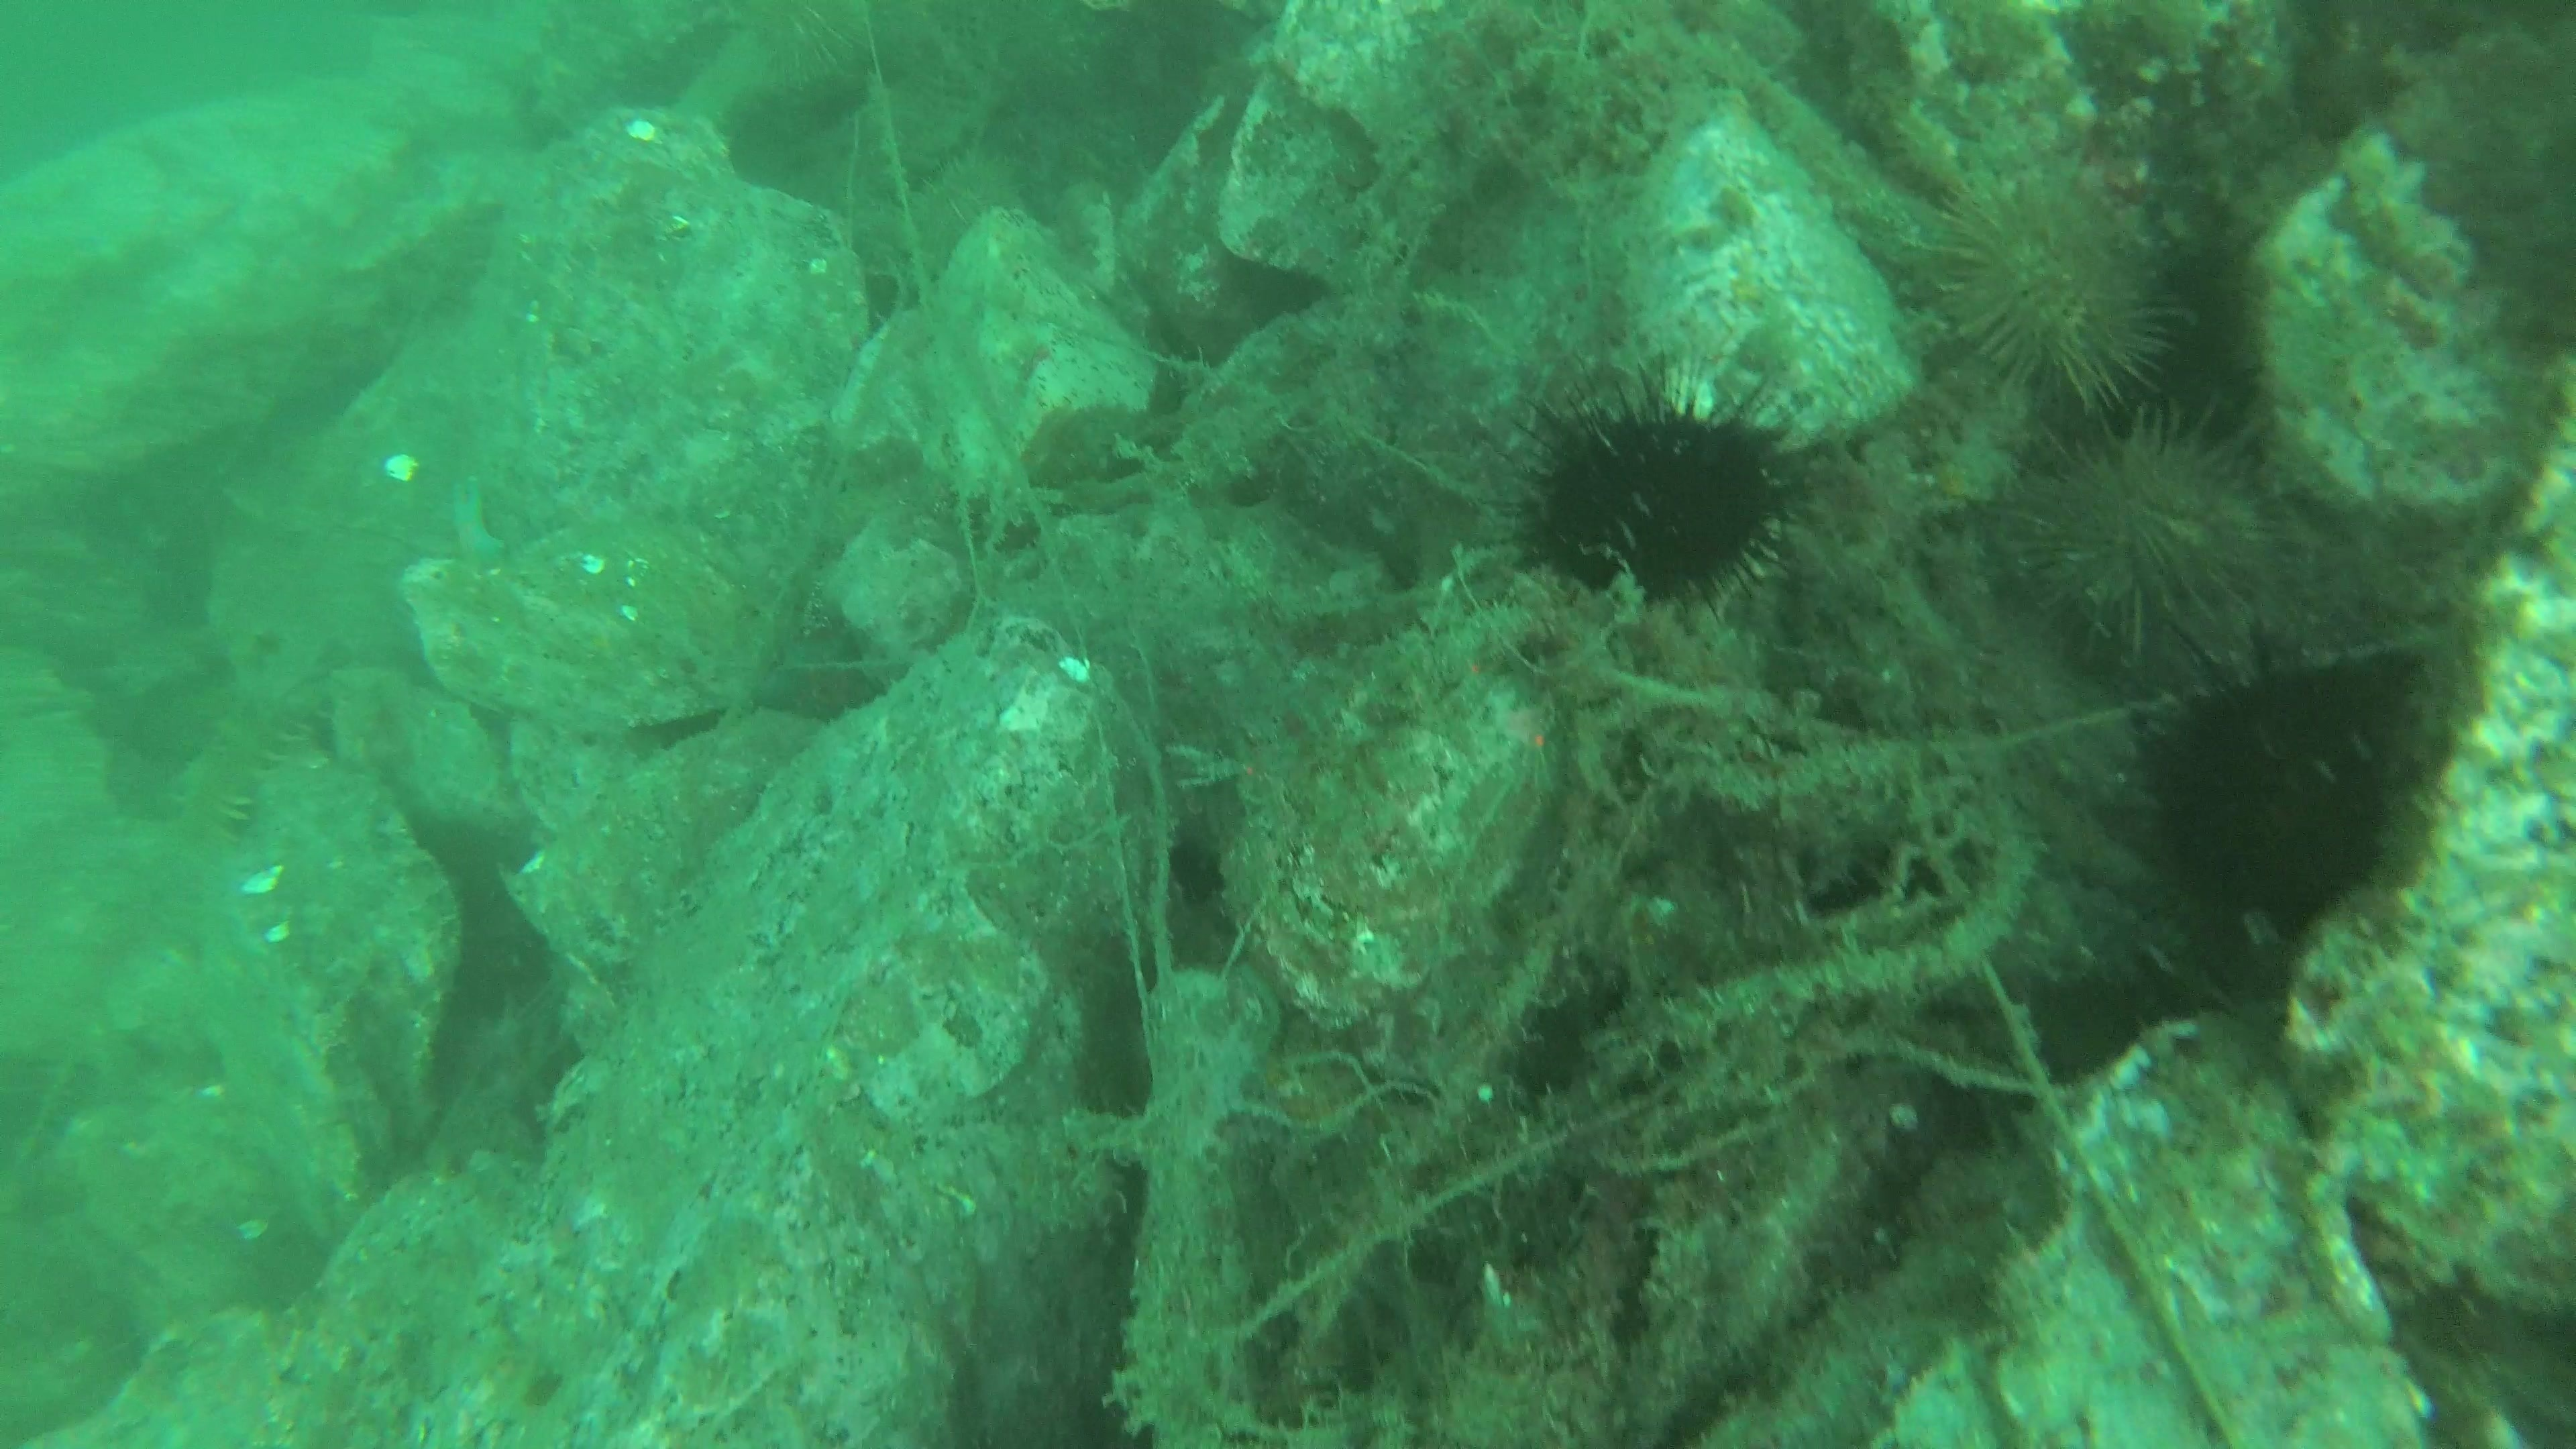echinus: (2118, 630, 2442, 947), (1996, 405, 2284, 676), (1509, 370, 1810, 612), (1920, 173, 2187, 426), (895, 138, 1033, 292)
holothurian: (163, 688, 317, 863)
